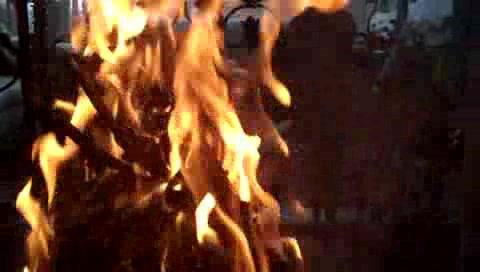fire: (61, 0, 313, 262)
